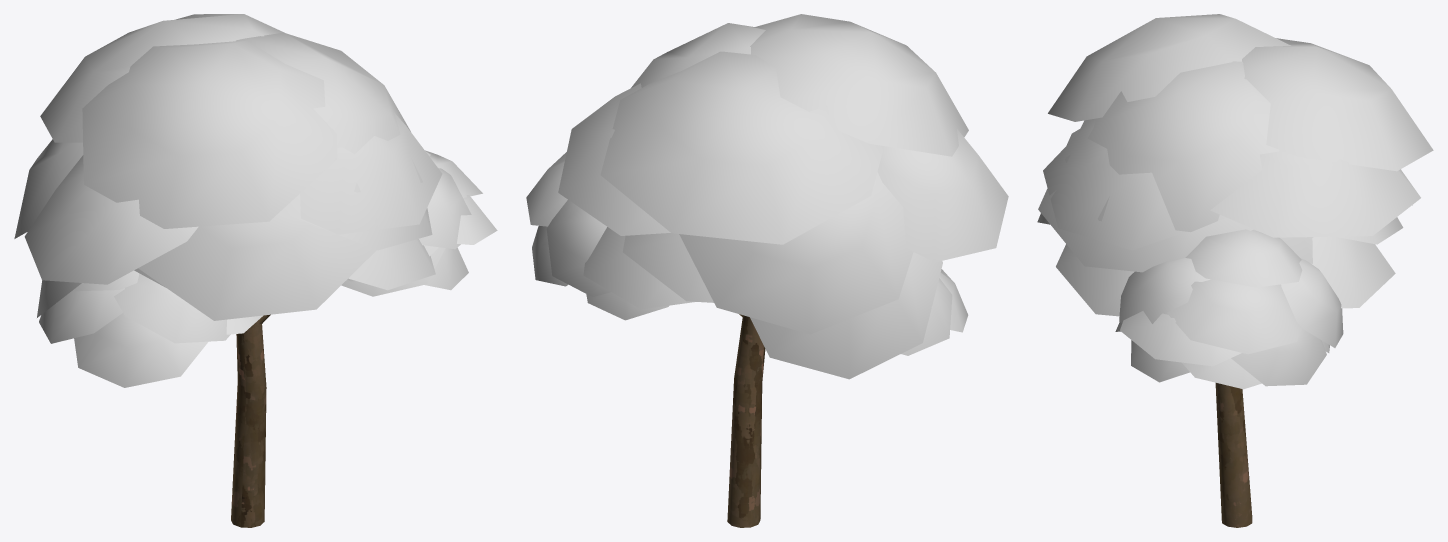
The model's file is Tree_3.glb.
The picture shows the model from 3 angles, left to right: view 1: azimuth 30°, elevation 25°; view 2: azimuth 150°, elevation 25°; view 3: azimuth 270°, elevation 25°; orthographic projection. The views are drawn at different scales.
Parts seen in each view (by area): view 1: Tree_3; view 2: Tree_3; view 3: Tree_3.
Part boxes in pixels (left/top/right/bottom): Tree_3: left=14, top=14, right=497, bottom=527; Tree_3: left=526, top=14, right=1008, bottom=527; Tree_3: left=1037, top=14, right=1433, bottom=527.
Bounding box in the file's own units: 2.77 × 2.93 × 2.24.
Materials: 2 (1 with a texture image).
